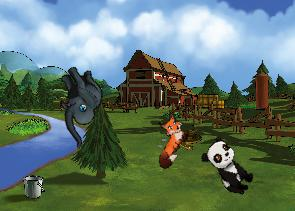elephant: (36, 59, 122, 148)
fox: (139, 109, 196, 171)
panda: (197, 134, 260, 200)
